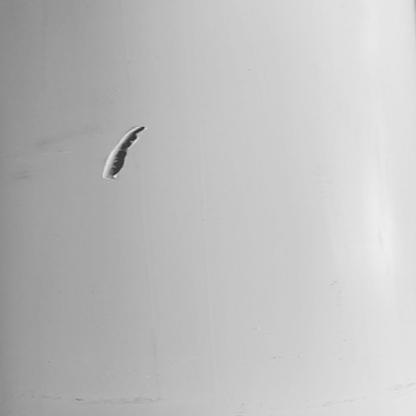sunshang: (94, 123, 153, 186)
